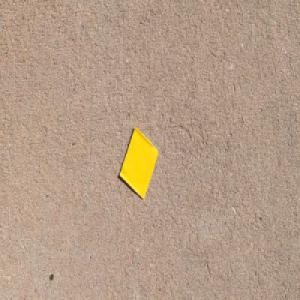PlasticPart: (118, 125, 159, 200)
